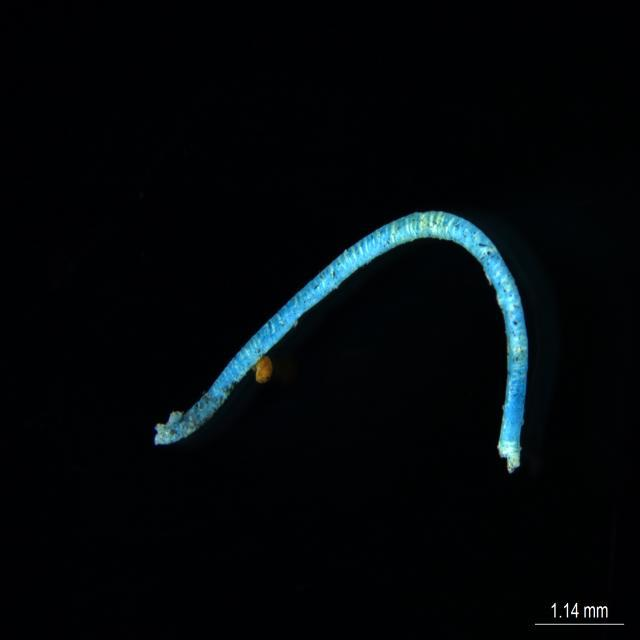fibers: (154, 189, 541, 475)
